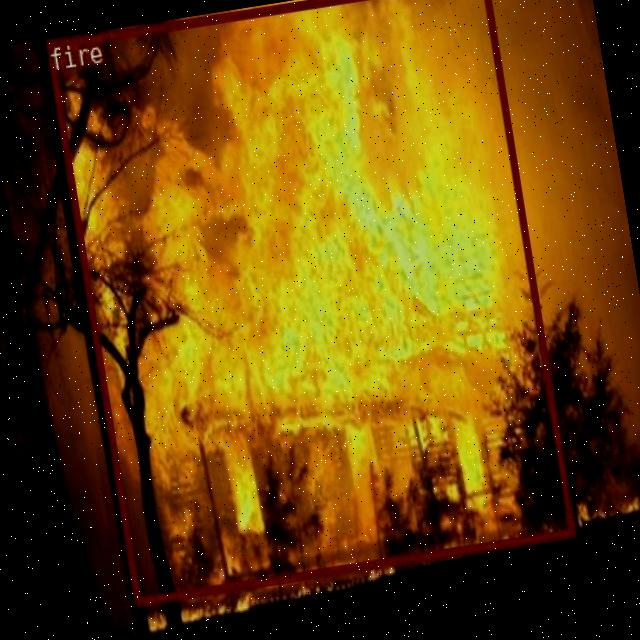fire: (45, 0, 575, 605)
